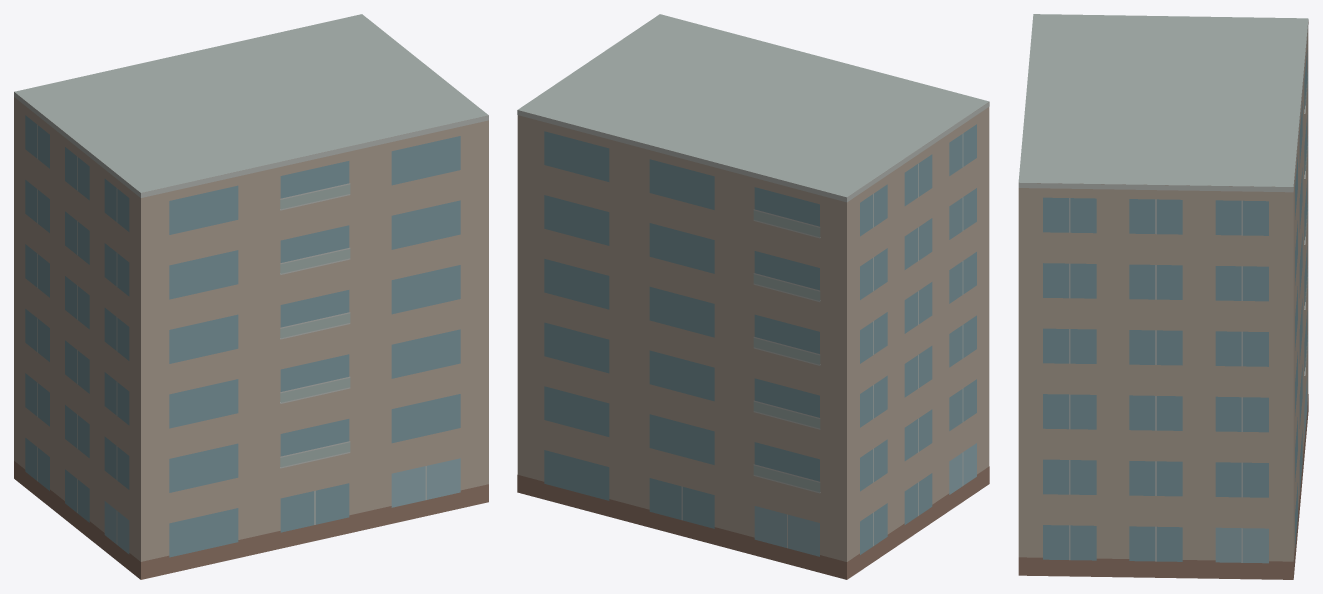
File: survey-upis-32738482.glb
The picture shows the model from 3 angles, left to right: view 1: azimuth 30°, elevation 25°; view 2: azimuth 150°, elevation 25°; view 3: azimuth 270°, elevation 25°; orthographic projection. The views are drawn at different scales.
Visible parts, largest first — view 1: survey-upis-32738482.tmp; view 2: survey-upis-32738482.tmp; view 3: survey-upis-32738482.tmp.
Boxes of the visible parts, box(x1,y1,x2,y2) form: survey-upis-32738482.tmp: box(14, 14, 488, 579); survey-upis-32738482.tmp: box(517, 14, 989, 579); survey-upis-32738482.tmp: box(1018, 14, 1308, 579).
Size of the model in its own units: 17.4 by 18.4 by 12.32.
